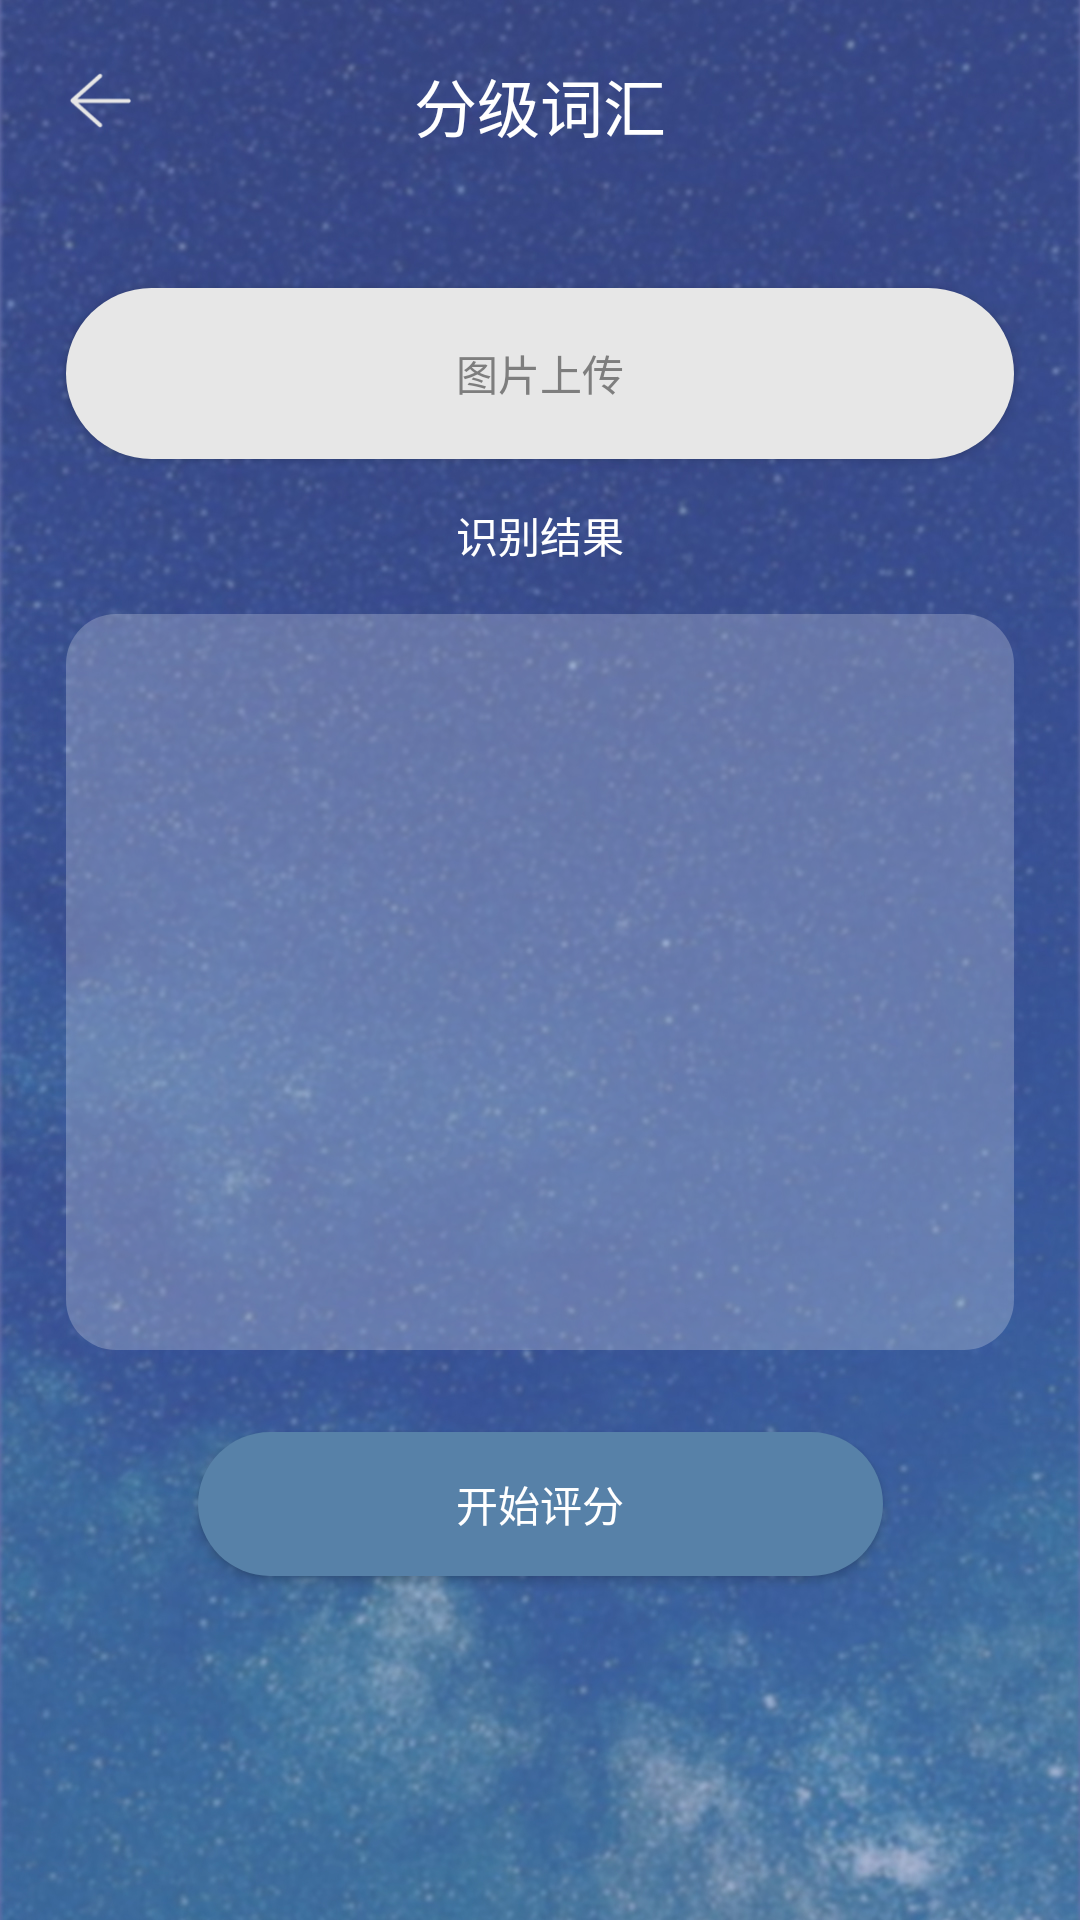

Icon bounding boxes for this 1080×1920 phone screenshot, format {"x1": x1, "y1": y1, "x2": x2, "y2": y2}:
back: {"x1": 70, "y1": 73, "x2": 131, "y2": 128}
